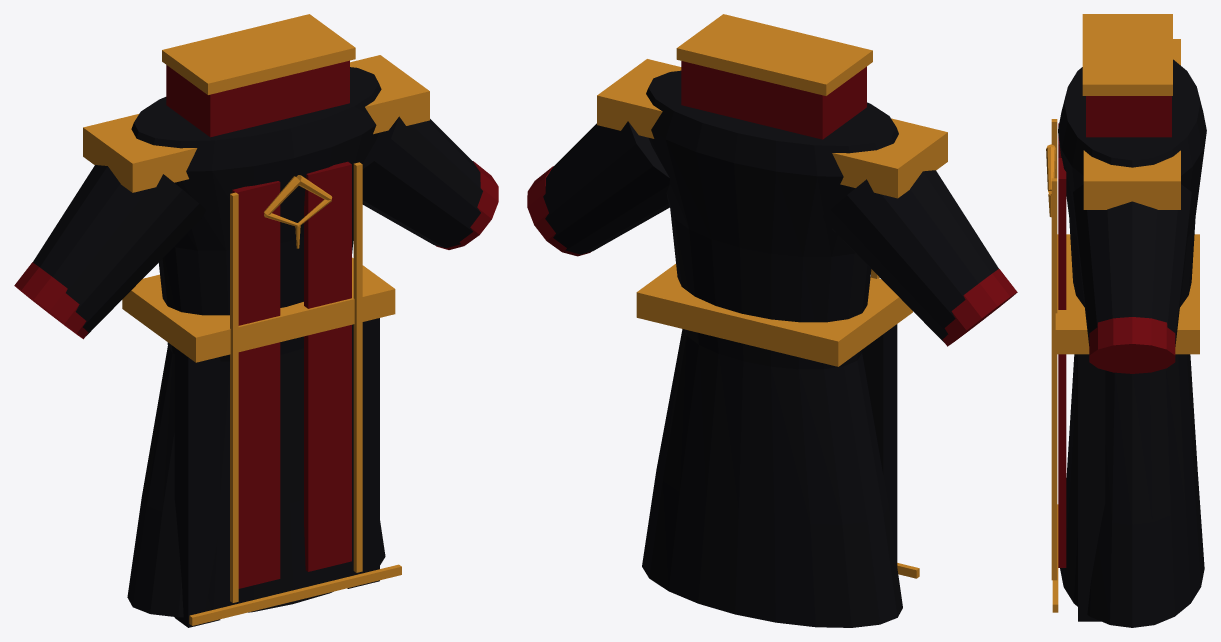
Rendered from kaisar_naga_abyss.obj.
3 renders of one model, left to right at view 1: azimuth 30°, elevation 25°; view 2: azimuth 150°, elevation 25°; view 3: azimuth 270°, elevation 25°, orthographic. The views are drawn at different scales.
Visible parts, largest first — view 1: KaisarNagaAbyss_Robe; view 2: KaisarNagaAbyss_Robe; view 3: KaisarNagaAbyss_Robe.
Part boxes in pixels (<box>): KaisarNagaAbyss_Robe: <box>14,14,498,627</box>; KaisarNagaAbyss_Robe: <box>527,14,1017,627</box>; KaisarNagaAbyss_Robe: <box>1046,14,1206,627</box>.
Size of the model in its own units: 2.36 by 2.57 by 0.712.
